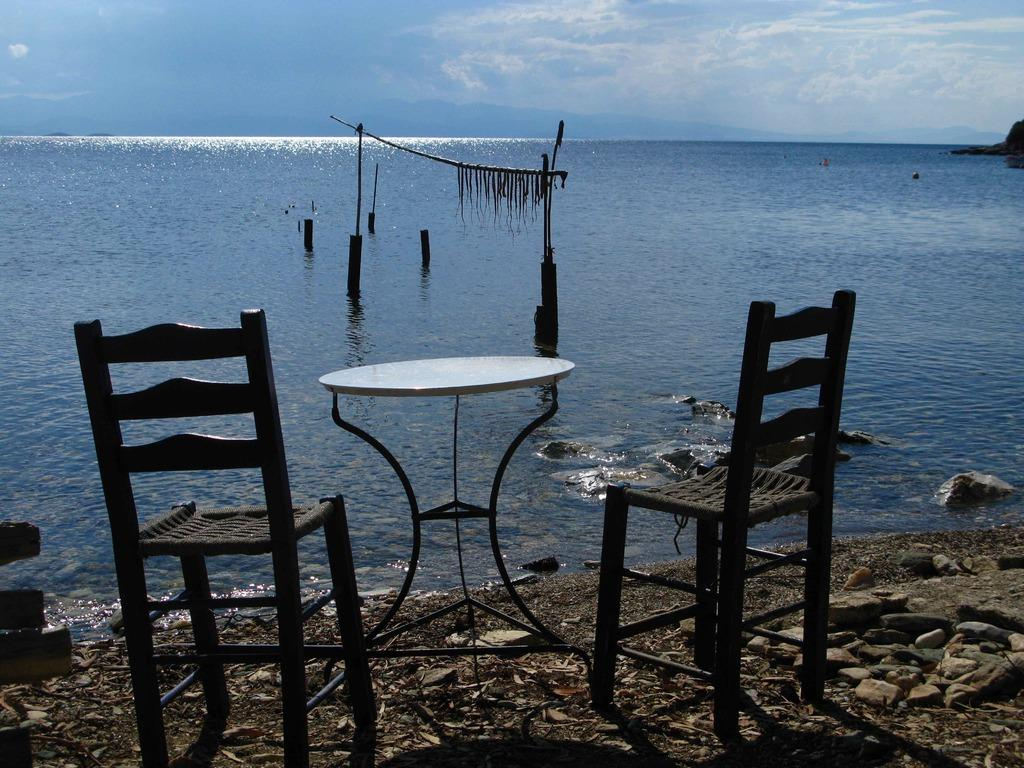Chair: (71, 303, 381, 767), (582, 277, 857, 746)
